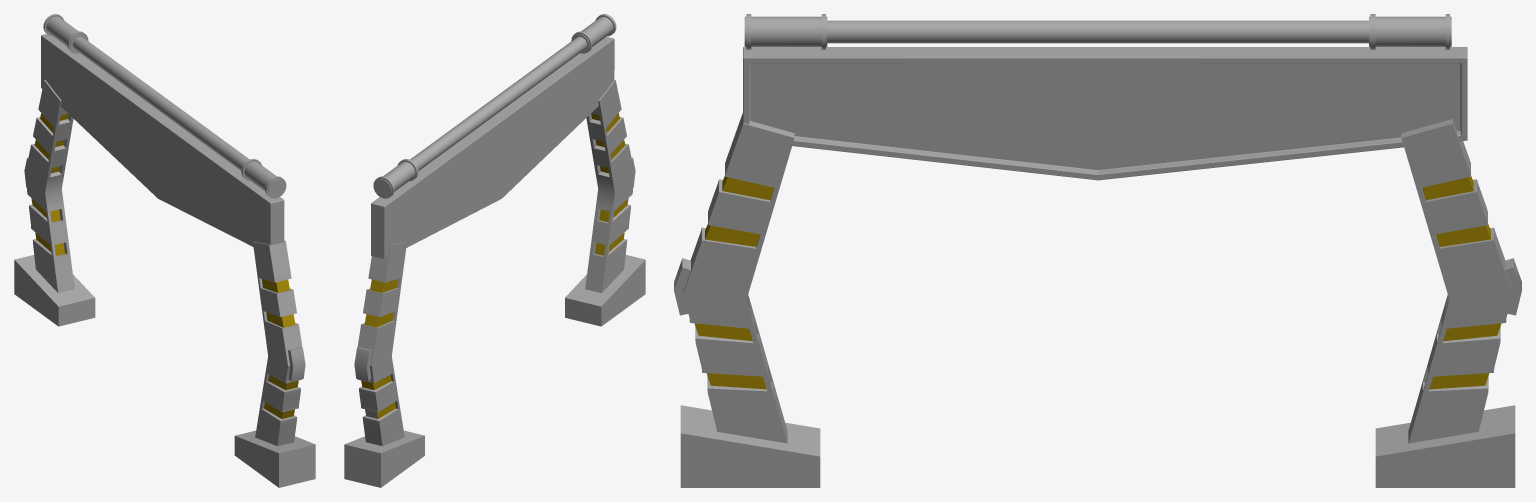
The model's file is Gate.fbx.
The picture shows the model from 3 angles, left to right: view 1: azimuth 30°, elevation 25°; view 2: azimuth 150°, elevation 25°; view 3: azimuth 270°, elevation 25°; orthographic projection. The views are drawn at different scales.
Parts seen in each view (by area): view 1: Gate; view 2: Gate; view 3: Gate.
Part boxes in pixels (box(x1,y1,x2,y2)): Gate: box(14, 14, 315, 487); Gate: box(344, 14, 645, 487); Gate: box(674, 14, 1521, 487).
Size of the model in its own units: 37.9 by 288 by 483.
